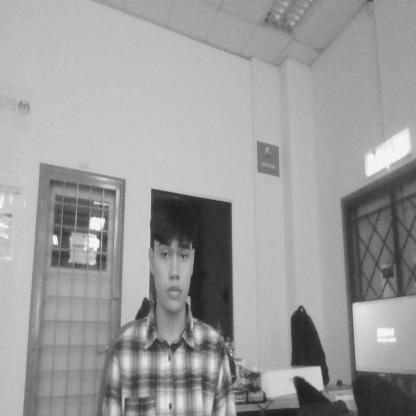Open-Eyes: (156, 241, 192, 264)
